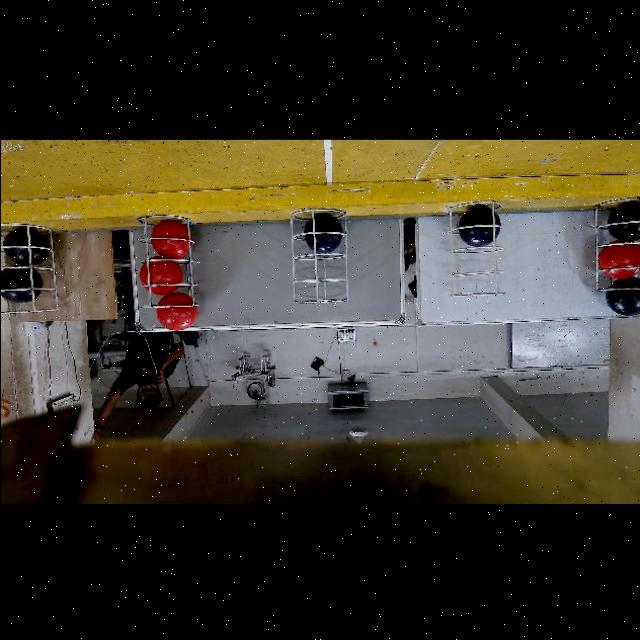P: (2, 228, 48, 265), (458, 205, 498, 244), (0, 264, 41, 301), (303, 214, 342, 252), (606, 275, 640, 315), (606, 201, 640, 240)
R: (598, 239, 640, 278), (156, 292, 197, 329), (151, 218, 189, 257), (140, 258, 181, 293)
S: (134, 216, 202, 310), (284, 206, 344, 306), (448, 198, 504, 298), (1, 239, 62, 325), (588, 202, 640, 290)
